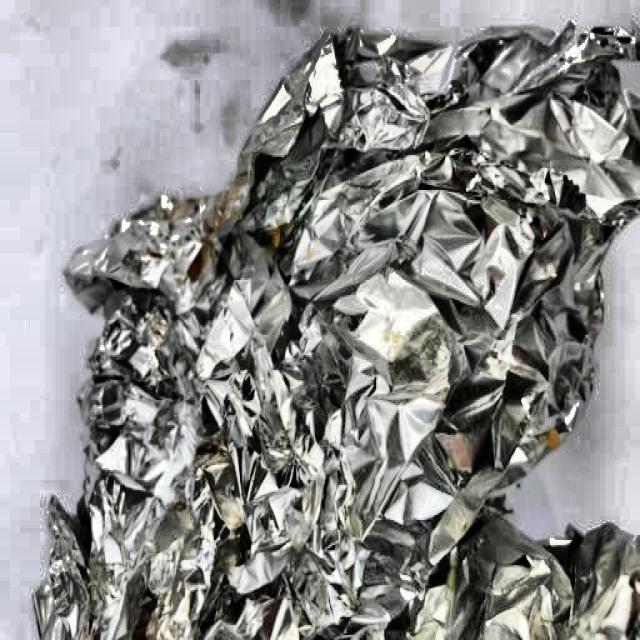metal: (62, 14, 640, 640)
